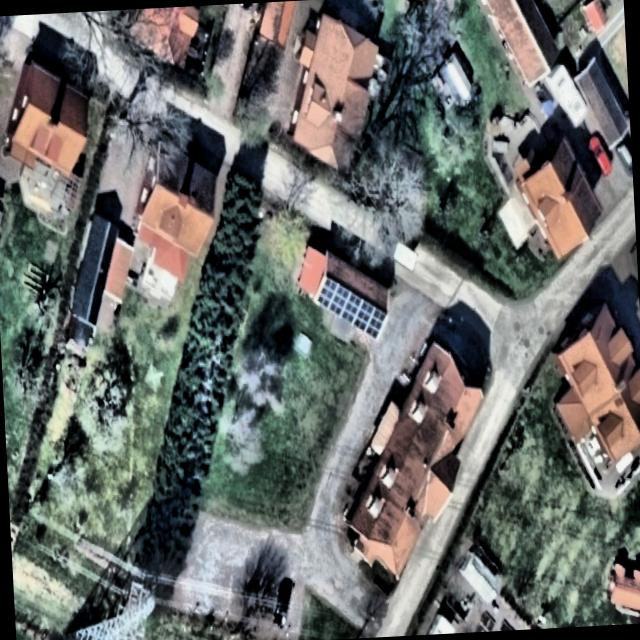roof_pv: (347, 282, 389, 346), (317, 272, 348, 330)
